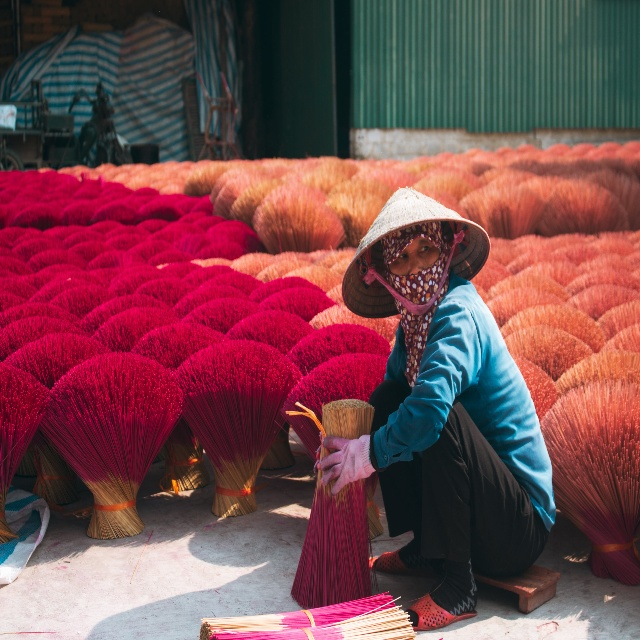Guantes: (317, 434, 377, 497)
